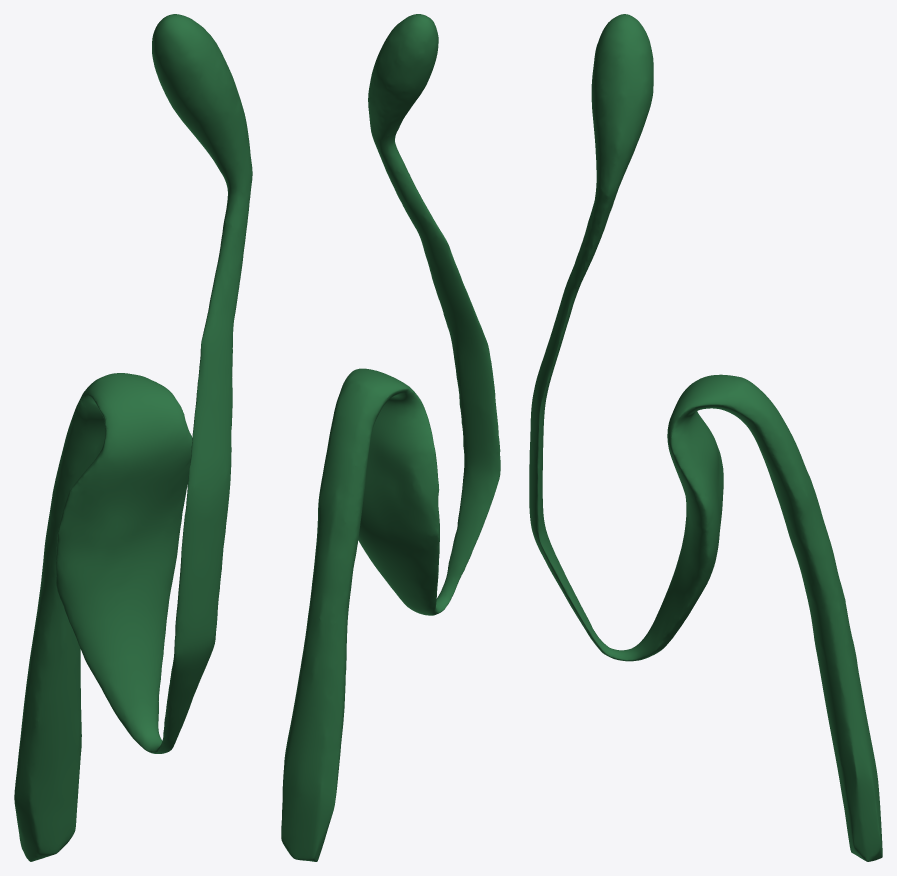
File: Asset_Foliage_Plant3.fbx
The picture shows the model from 3 angles, left to right: view 1: azimuth 30°, elevation 25°; view 2: azimuth 150°, elevation 25°; view 3: azimuth 270°, elevation 25°; orthographic projection. The views are drawn at different scales.
Visible parts, largest first — view 1: Cylinder003; view 2: Cylinder003; view 3: Cylinder003.
Part boxes in pixels (x1=…): Cylinder003: x1=14, y1=14, x2=252, y2=861; Cylinder003: x1=281, y1=14, x2=500, y2=861; Cylinder003: x1=529, y1=14, x2=882, y2=861.
Size of the model in its own units: 0.3606 by 2.33 by 0.888.
